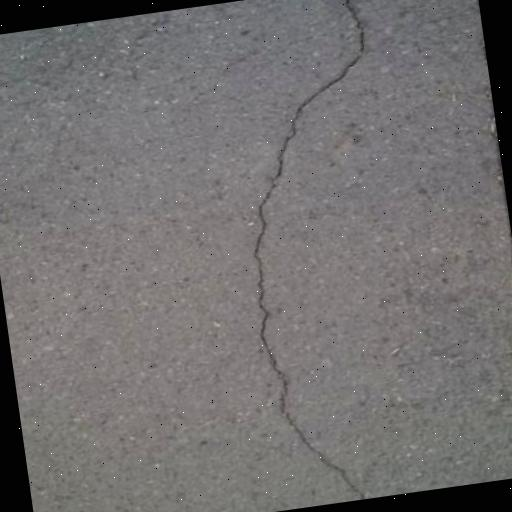spalling: (241, 0, 377, 494)
